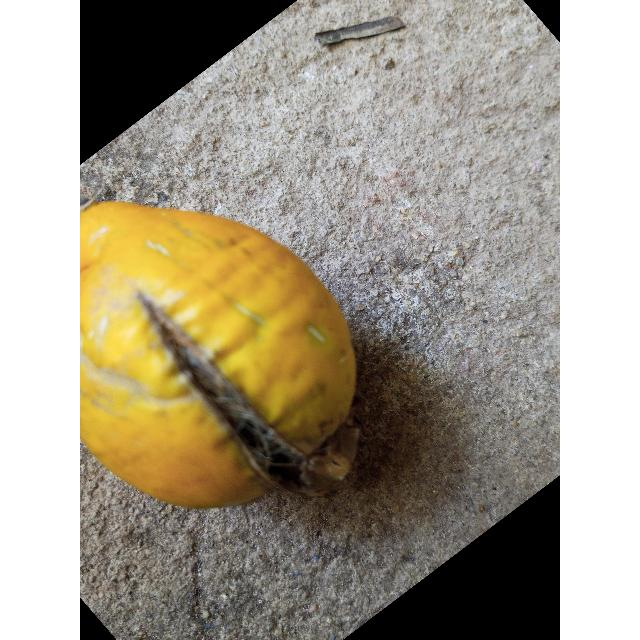damaged: (80, 201, 360, 513)
